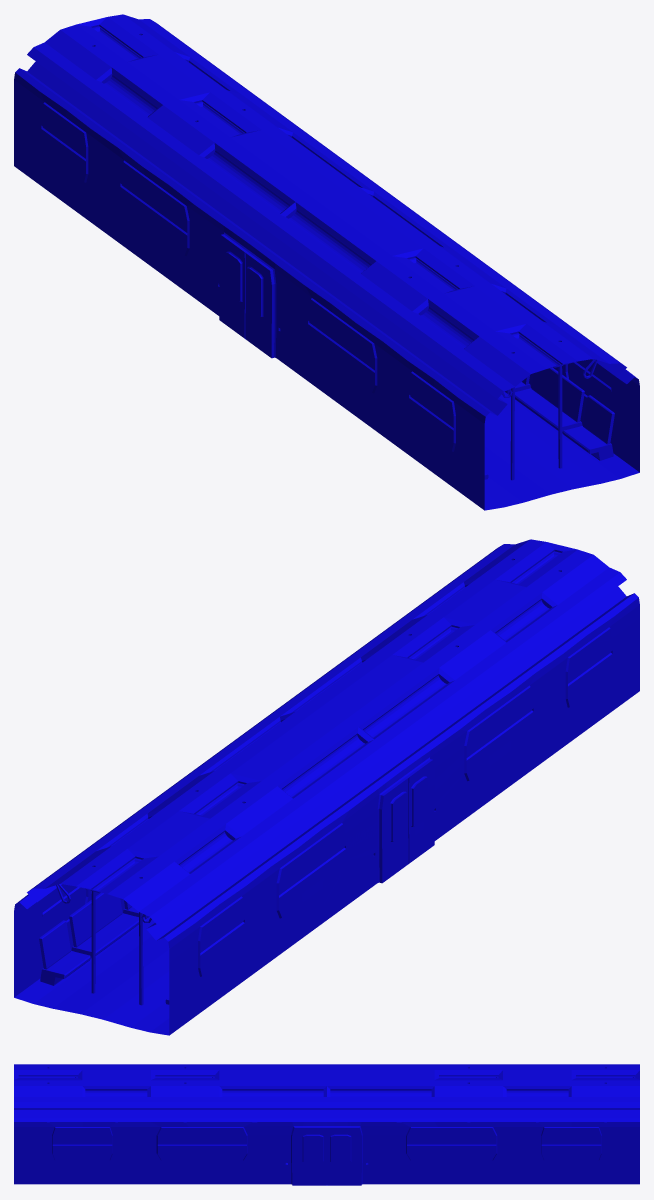
Rendered from subway_maybe_shaded_idk.glb.
3 renders of one model, top to bottom at view 1: azimuth 30°, elevation 25°; view 2: azimuth 150°, elevation 25°; view 3: azimuth 270°, elevation 25°, orthographic. The views are drawn at different scales.
Visible parts, largest first — view 1: Subway; view 2: Subway; view 3: Subway.
Boxes of the visible parts, x1=… form: Subway: x1=14, y1=14, x2=639, y2=510; Subway: x1=14, y1=539, x2=639, y2=1035; Subway: x1=14, y1=1064, x2=639, y2=1185.
Size of the model in its own units: 2.82 by 2.06 by 13.71.
